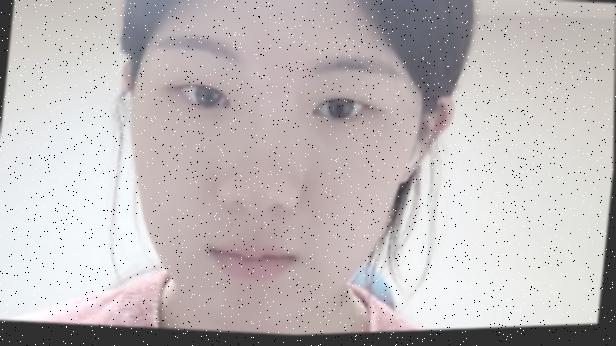eye: (194, 81, 224, 111), (326, 96, 356, 124)
iris: (176, 83, 232, 115), (311, 97, 368, 128)
